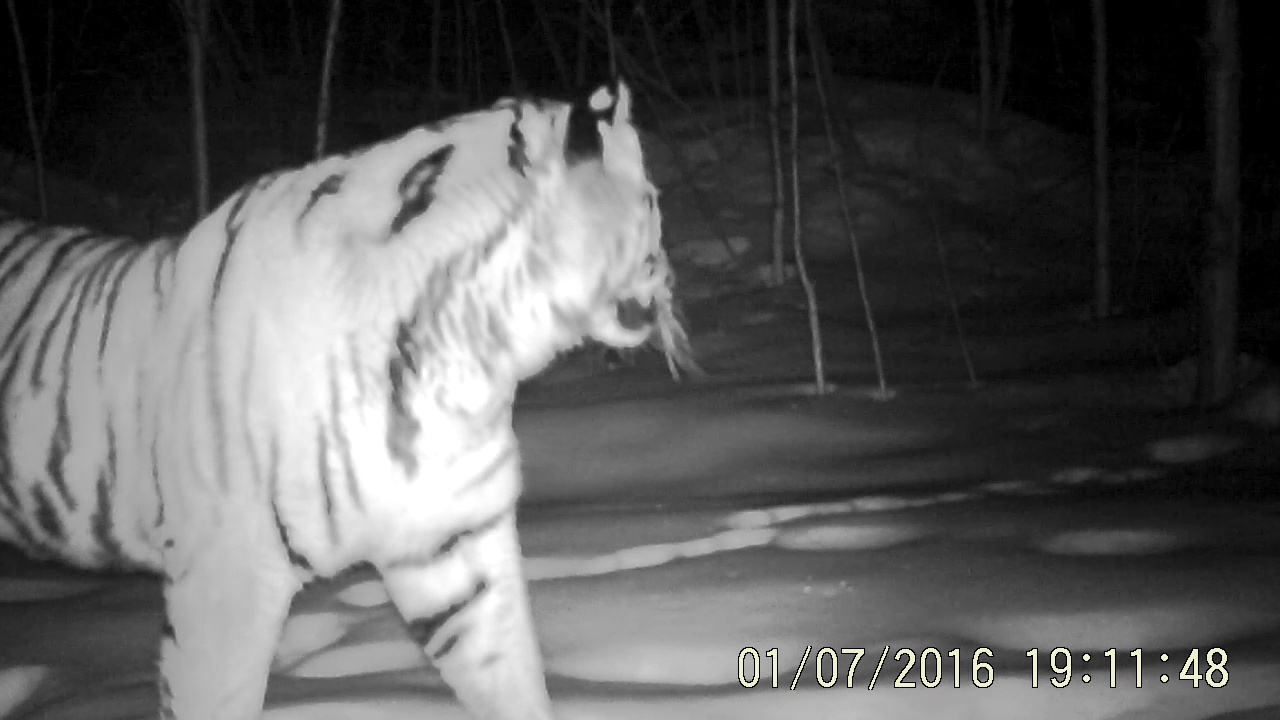Tiger: (6, 9, 732, 720)
